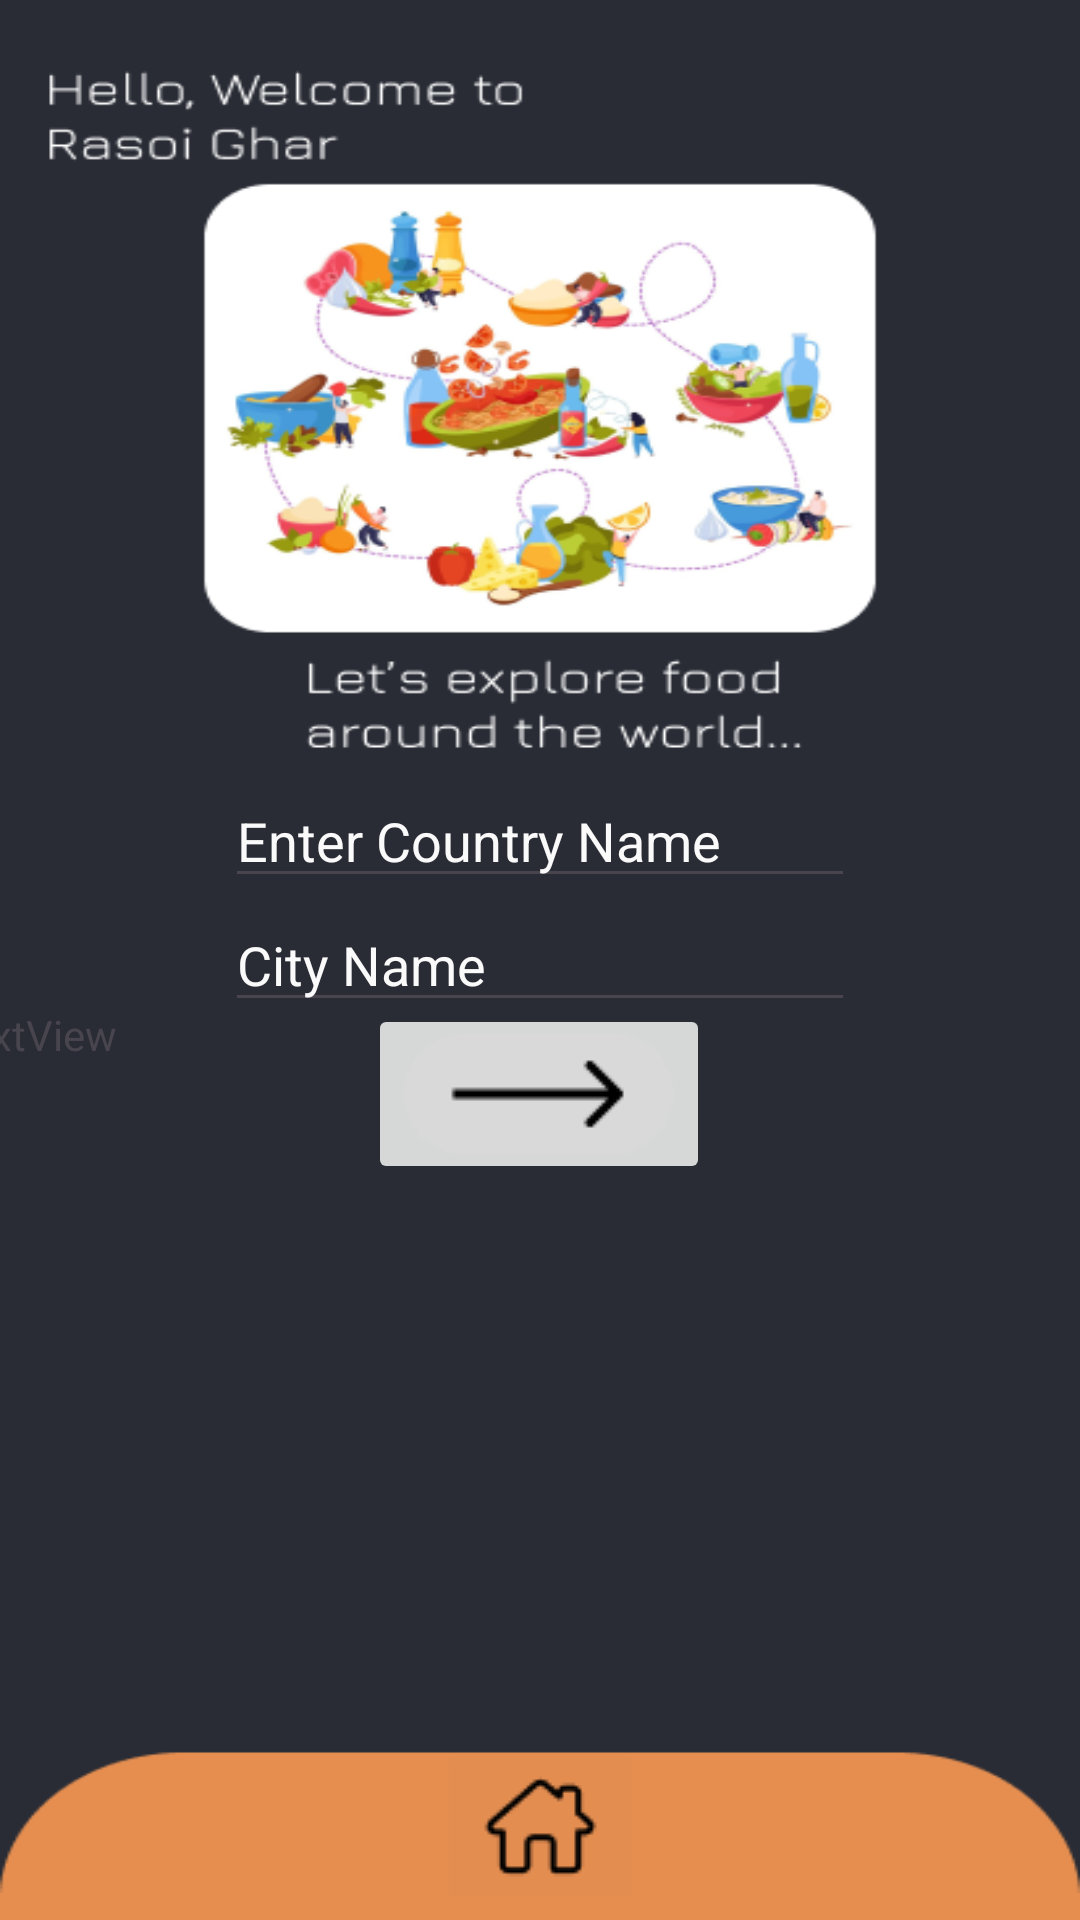

Icon bounding boxes for this 1080×1920 phone screenshot, format (x1, y1, x2, y2):
bigarrow: (380, 1022, 698, 1166)
home: (484, 1778, 597, 1875)
